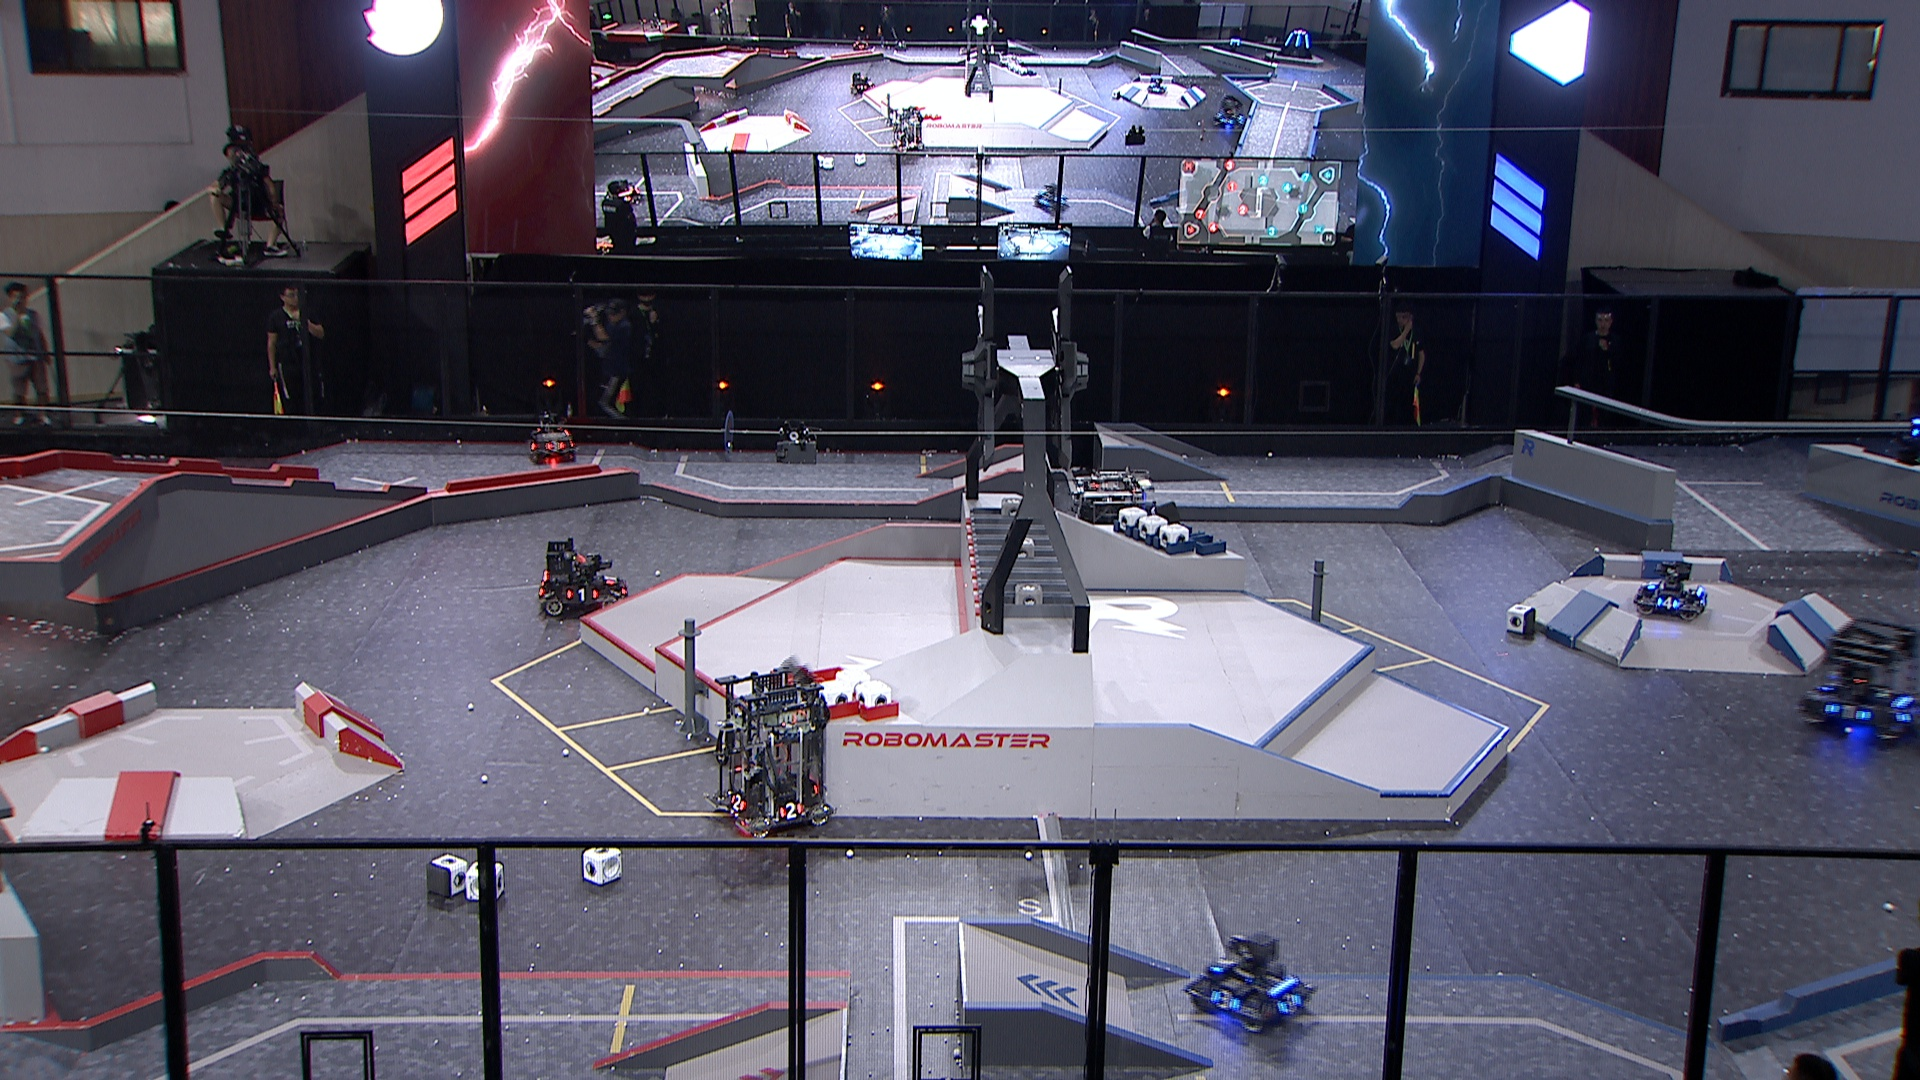armor: (1826, 702, 1869, 721), (775, 796, 806, 822), (1212, 988, 1240, 1011), (564, 585, 596, 603), (1280, 992, 1300, 1015), (727, 793, 746, 815), (1211, 955, 1233, 973), (1655, 595, 1679, 612), (545, 440, 564, 455), (1822, 680, 1842, 694), (1644, 578, 1659, 593), (603, 571, 618, 585)
car: (709, 661, 833, 836), (1801, 615, 1920, 745), (1183, 928, 1316, 1034), (1059, 467, 1166, 578), (535, 535, 629, 618), (1633, 556, 1706, 618), (524, 411, 579, 467)
ignore: (889, 107, 927, 154), (1276, 24, 1315, 62), (1211, 95, 1247, 129), (1033, 182, 1064, 214), (612, 177, 641, 204), (847, 71, 874, 95), (1224, 26, 1245, 54), (1143, 76, 1171, 96), (851, 34, 869, 50)
watcher: (1894, 411, 1920, 469)
